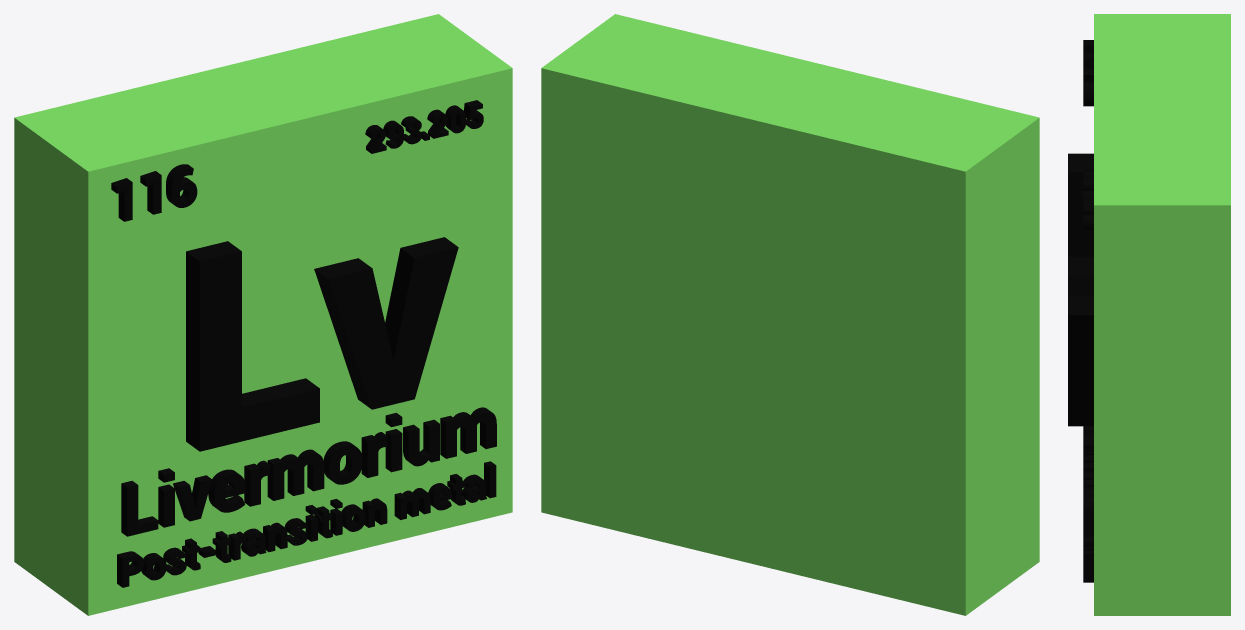
3 views of the same model, side by side, from view 1: azimuth 30°, elevation 25°; view 2: azimuth 150°, elevation 25°; view 3: azimuth 270°, elevation 25° (orthographic). The views are drawn at different scales.
Visible parts, largest first — view 1: Cube, Text, Text.001, Text.002, Text.004, Text.003; view 2: Cube; view 3: Cube, Text, Text.001, Text.004, Text.003, Text.002.
Boxes of the visible parts, box(x1,y1,x2,y2) form: Cube: box(14, 14, 512, 615); Text: box(186, 237, 458, 451); Text.001: box(121, 407, 496, 536); Text.002: box(117, 461, 496, 587); Text.004: box(365, 100, 483, 153); Text.003: box(111, 164, 197, 221); Cube: box(541, 14, 1039, 615); Cube: box(1094, 14, 1230, 615); Text: box(1068, 153, 1093, 426); Text.001: box(1083, 426, 1093, 536); Text.004: box(1083, 162, 1093, 229); Text.003: box(1083, 40, 1093, 106); Text.002: box(1083, 536, 1093, 582).
Bounding box in the file's own units: 178 × 178 × 63.95.
